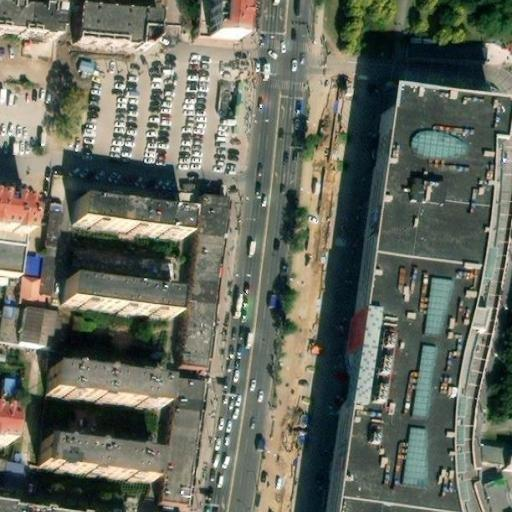building: (323, 94, 487, 512), (182, 193, 231, 367), (161, 378, 208, 507), (46, 364, 167, 407), (66, 245, 178, 286), (42, 438, 155, 477), (63, 277, 175, 314), (73, 199, 185, 233), (70, 7, 156, 49), (38, 205, 63, 294), (18, 305, 56, 348), (0, 499, 87, 512), (213, 0, 246, 33), (0, 402, 24, 441), (0, 305, 20, 345)
